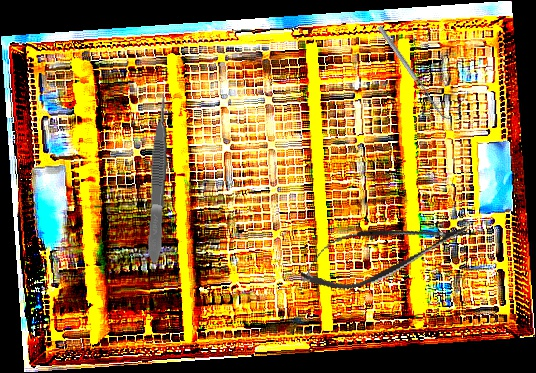Micro Scissor: (293, 203, 476, 301)
Spatula Surgical: (377, 22, 452, 124)
Tissue Forceps: (144, 95, 174, 264)
